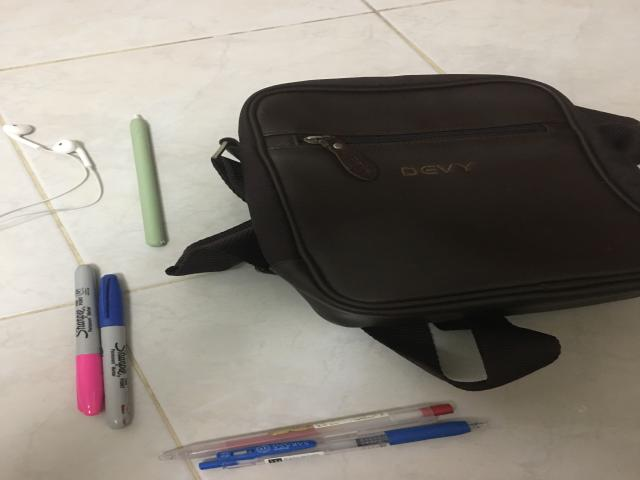Pen: (158, 404, 485, 470), (98, 275, 130, 428), (75, 264, 103, 415)
wire: (0, 124, 103, 218)
